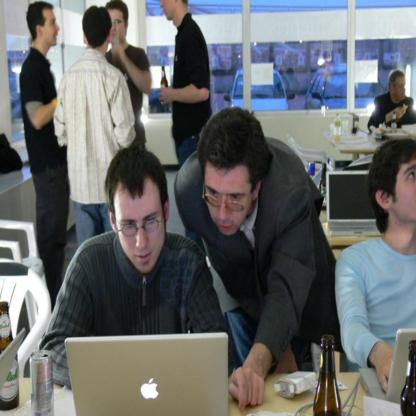board: (64, 332, 228, 416), (360, 329, 416, 407), (326, 171, 386, 237), (314, 333, 342, 416), (0, 298, 19, 412), (0, 326, 27, 392), (29, 349, 55, 416), (400, 339, 416, 416), (320, 163, 328, 210), (335, 112, 341, 141), (308, 161, 315, 179), (392, 110, 397, 132)
